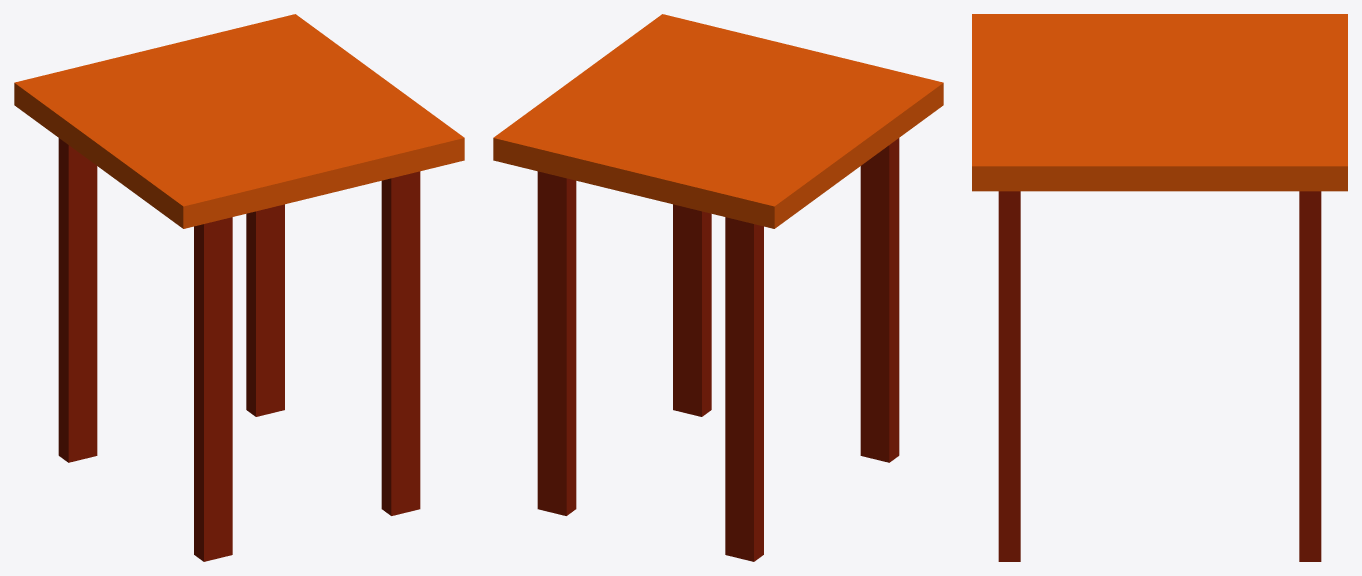
The model's file is Taburet.fbx.
The picture shows the model from 3 angles, left to right: view 1: azimuth 30°, elevation 25°; view 2: azimuth 150°, elevation 25°; view 3: azimuth 270°, elevation 25°; orthographic projection. The views are drawn at different scales.
Parts seen in each view (by area): view 1: Cube.002; view 2: Cube.002; view 3: Cube.002.
Part boxes in pixels (x1=…): Cube.002: x1=14, y1=14, x2=464, y2=561; Cube.002: x1=493, y1=14, x2=943, y2=561; Cube.002: x1=972, y1=14, x2=1347, y2=561.
Size of the model in its own units: 109 by 137 by 113.
